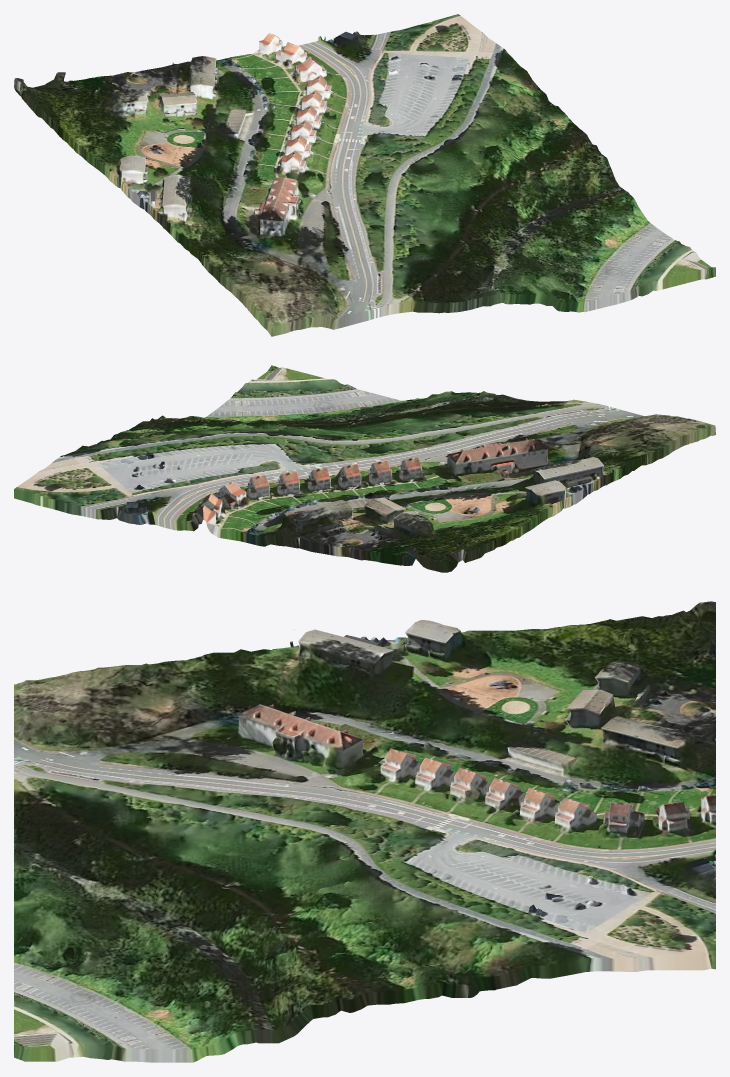
File: z17-20945-50647-h0-yup-uvflip-v3-world.glb
The picture shows the model from 3 angles, top to bottom: view 1: azimuth 30°, elevation 25°; view 2: azimuth 150°, elevation 25°; view 3: azimuth 270°, elevation 25°; orthographic projection. The views are drawn at different scales.
Bounding box in the file's own units: 242 × 63.36 × 243.
Materials: 1 (1 with a texture image).
